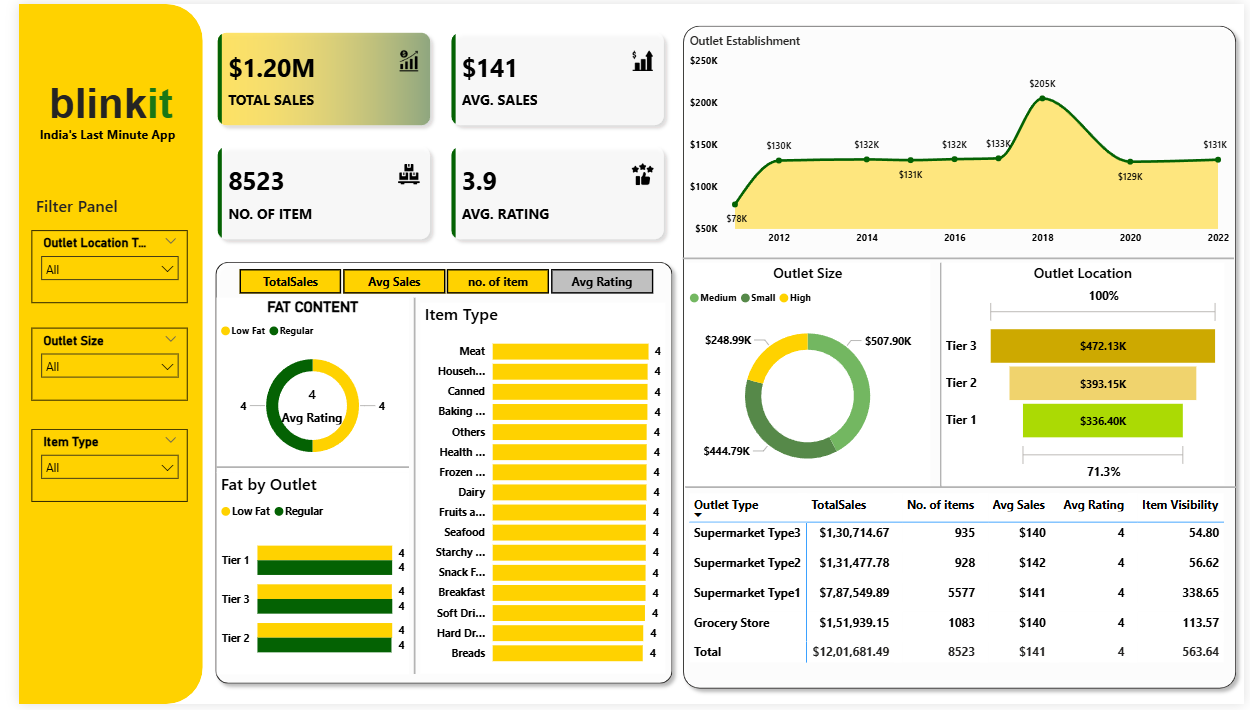

What the dashboard file says about the page in this screenshot:
{"tool":"powerbi","page":{"name":"Page 1","canvas":[1400,800],"ordinal":0},"visuals":[{"type":"shape","box":[0,0,210,800],"z":0},{"type":"textbox","box":[0,81.4,210,77.1],"z":1000},{"type":"textbox","box":[18.6,134.3,172.9,34.3],"z":2000},{"type":"cardVisual","fields":{"Data":["Blinkit Grocery Data.TotalSales","Blinkit Grocery Data.Avg Sales","Blinkit Grocery Data.no. of item","Blinkit Grocery Data.Avg Rating"]},"box":[210,15.7,545.7,270],"z":3000},{"type":"shape","box":[215.7,285.7,540,500],"z":4000},{"type":"donutChart","title":"FAT CONTENT","fields":{"Y":["Blinkit Grocery Data.Avg Rating"],"Category":["Blinkit Grocery Data.Item Fat Content"]},"box":[225.7,335.7,220,200],"z":5000},{"type":"slicer","fields":{"Values":["Matrices.Matrices"]},"box":[225.7,295.7,522.9,40],"z":6000},{"type":"cardVisual","fields":{"Data":["Blinkit Grocery Data.Avg Rating"]},"box":[275.7,418.6,118.6,67.1],"z":7000},{"type":"clusteredBarChart","title":"Fat by Outlet","fields":{"Y":["Blinkit Grocery Data.Avg Rating"],"Category":["Blinkit Grocery Data.Outlet Location Type"],"Series":["Blinkit Grocery Data.Item Fat Content"]},"box":[225.7,535.7,220,230],"z":8000},{"type":"shape","box":[225.7,522.9,220,12.9],"z":9000},{"type":"shape","box":[445.7,335.7,12.9,430],"z":10000},{"type":"barChart","title":"Item Type","fields":{"Y":["Blinkit Grocery Data.Avg Rating"],"Category":["Blinkit Grocery Data.Item Type"]},"box":[458.6,341.4,280,424.3],"z":11000},{"type":"shape","box":[750,15.7,650,775.7],"z":12000},{"type":"lineChart","title":"Outlet Establishment ","fields":{"Category":["Blinkit Grocery Data.Outlet Establishment Year"],"Y":["Blinkit Grocery Data.TotalSales"]},"box":[761.4,32.9,627.1,251.4],"z":13000},{"type":"shape","box":[758.6,284.3,630,12.9],"z":14000},{"type":"donutChart","title":"Outlet Size","fields":{"Y":["Blinkit Grocery Data.TotalSales"],"Category":["Blinkit Grocery Data.Outlet Size"]},"box":[761.4,295.7,280,255.7],"z":15000},{"type":"shape","box":[1047.1,295.7,12.9,257.1],"z":16000},{"type":"funnel","title":" Outlet Location ","fields":{"Y":["Blinkit Grocery Data.TotalSales"],"Category":["Blinkit Grocery Data.Outlet Location Type"]},"box":[1054.3,295.7,322.9,254.3],"z":17000},{"type":"shape","box":[761.4,545.7,630,12.9],"z":18000},{"type":"pivotTable","fields":{"Rows":["Blinkit Grocery Data.Outlet Type"],"Values":["Blinkit Grocery Data.TotalSales","Blinkit Grocery Data.No. of items","Blinkit Grocery Data.Avg Sales","Blinkit Grocery Data.Avg Rating","Sum(Blinkit Grocery Data.Item Visibility)"]},"box":[761.4,554.3,627.1,211.4],"z":19000},{"type":"slicer","fields":{"Values":["Blinkit Grocery Data.Outlet Size"]},"box":[14.3,370,178.6,82.9],"z":20000},{"type":"slicer","fields":{"Values":["Blinkit Grocery Data.Item Type"]},"box":[14.3,485.7,178.6,82.9],"z":21000},{"type":"slicer","fields":{"Values":["Blinkit Grocery Data.Outlet Location Type"]},"box":[14.3,258.6,178.6,82.9],"z":22000},{"type":"textbox","box":[14.3,212.9,125.7,35.7],"z":22001}]}

Visuals, with their boxes in screenshot pixels (x1, y1, x2, y2), scaled from the page's 1400x800 canvas onto the 1250x710 screenshot:
shape: x1=0, y1=0, x2=188, y2=709
textbox: x1=0, y1=72, x2=188, y2=141
textbox: x1=17, y1=119, x2=171, y2=150
cardVisual - Blinkit Grocery Data.TotalSales x Blinkit Grocery Data.Avg Sales: x1=188, y1=14, x2=675, y2=254
shape: x1=193, y1=254, x2=675, y2=697
"FAT CONTENT" donutChart: x1=202, y1=298, x2=398, y2=475
slicer - Matrices.Matrices: x1=202, y1=262, x2=668, y2=298
cardVisual - Blinkit Grocery Data.Avg Rating: x1=246, y1=372, x2=352, y2=431
"Fat by Outlet" clusteredBarChart: x1=202, y1=475, x2=398, y2=680
shape: x1=202, y1=464, x2=398, y2=476
shape: x1=398, y1=298, x2=409, y2=680
"Item Type" barChart: x1=409, y1=303, x2=659, y2=680
shape: x1=670, y1=14, x2=1249, y2=702
"Outlet Establishment " lineChart: x1=680, y1=29, x2=1240, y2=252
shape: x1=677, y1=252, x2=1240, y2=264
"Outlet Size" donutChart: x1=680, y1=262, x2=930, y2=489
shape: x1=935, y1=262, x2=946, y2=491
" Outlet Location " funnel: x1=941, y1=262, x2=1230, y2=488
shape: x1=680, y1=484, x2=1242, y2=496
pivotTable - Blinkit Grocery Data.Outlet Type x Blinkit Grocery Data.TotalSales: x1=680, y1=492, x2=1240, y2=680
slicer - Blinkit Grocery Data.Outlet Size: x1=13, y1=328, x2=172, y2=402
slicer - Blinkit Grocery Data.Item Type: x1=13, y1=431, x2=172, y2=505
slicer - Blinkit Grocery Data.Outlet Location Type: x1=13, y1=230, x2=172, y2=303
textbox: x1=13, y1=189, x2=125, y2=221
